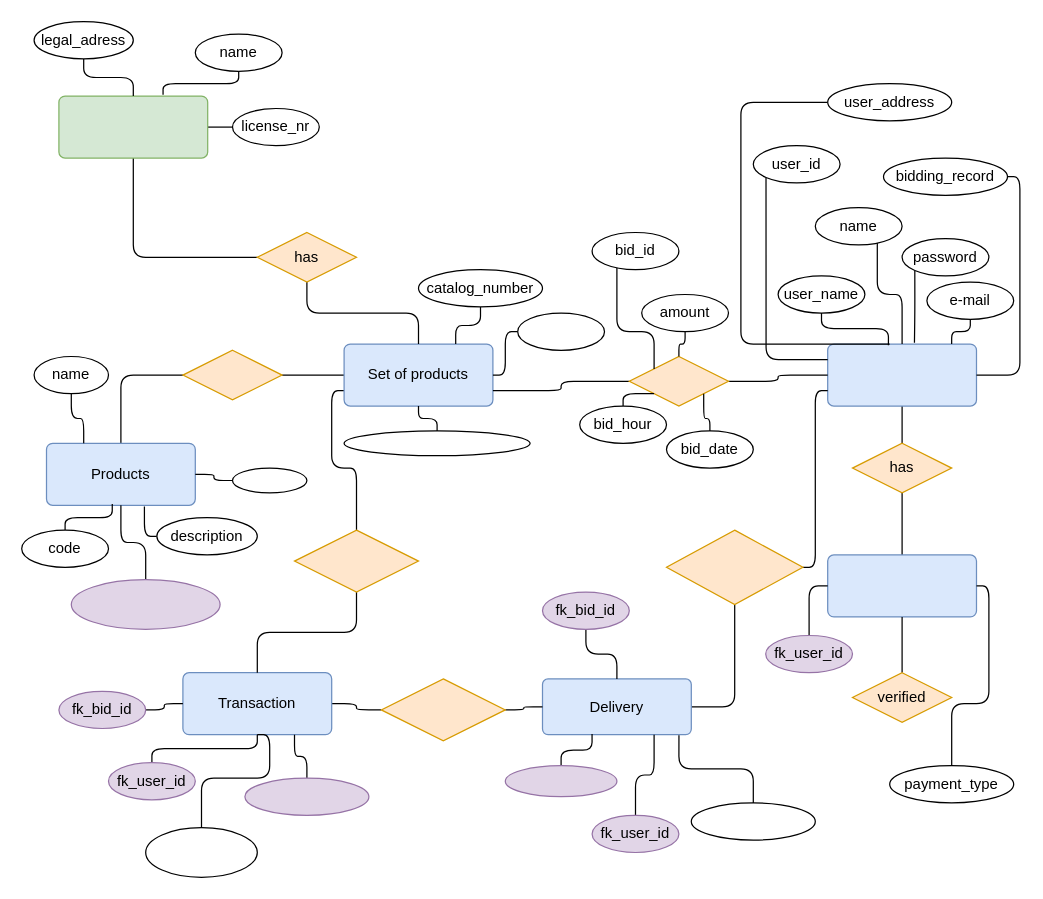
This 1043x899 diagram has some shape labels left out. The shapes that lost their labels are listed below. From the top down, each one's centre as x and y in pixels, then its label:
pixel 133 126: Auction House
pixel 560 331: highest_bid
pixel 232 374: contains
pixel 678 380: bids
pixel 901 374: Customer
pixel 436 443: remaining_auction_time
pixel 269 480: img
pixel 355 560: creates a bid
pixel 734 566: ships set of products
pixel 145 603: fk_catalog_number
pixel 901 585: Payment Method
pixel 442 709: processes
pixel 306 796: fk_payment_type
pixel 560 780: fk_user_address
pixel 752 821: delivery_type
pixel 200 851: transaction_id
